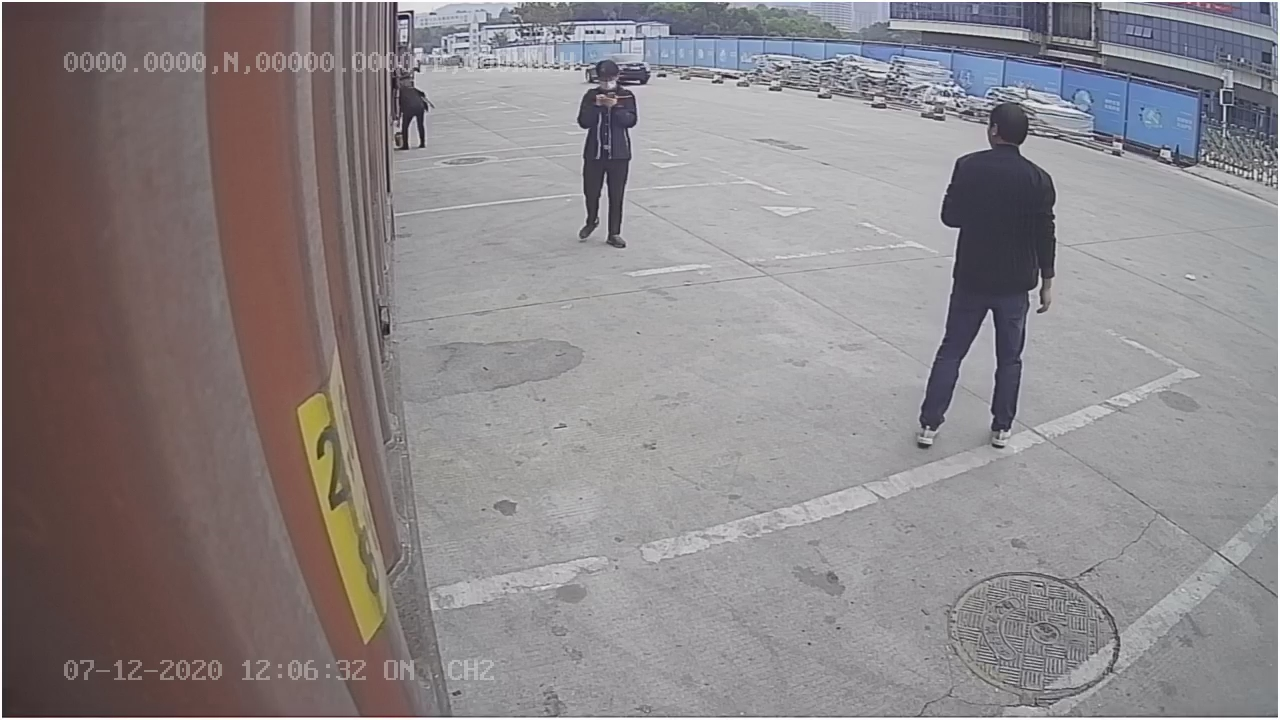person: (914, 101, 1061, 458)
